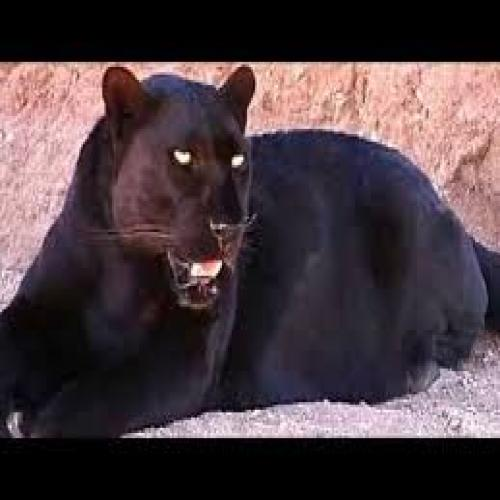panther-endangered: (40, 68, 477, 403)
